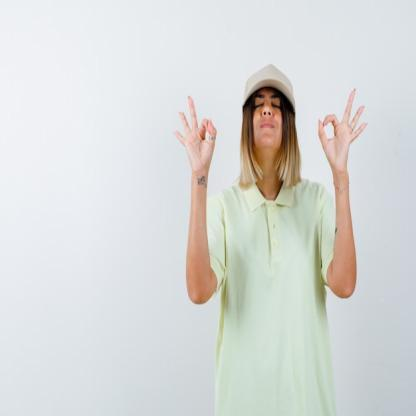ok: (316, 83, 370, 168), (172, 92, 219, 173)
